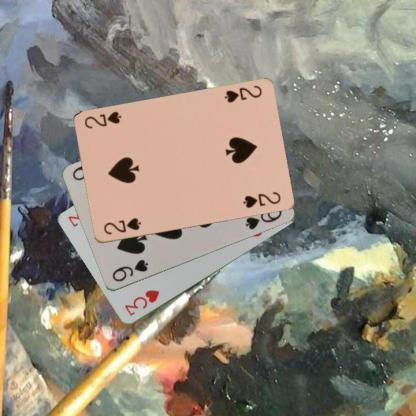2s: (221, 83, 263, 105), (101, 216, 142, 236)
3h: (122, 287, 161, 317)
9s: (109, 257, 150, 283)
